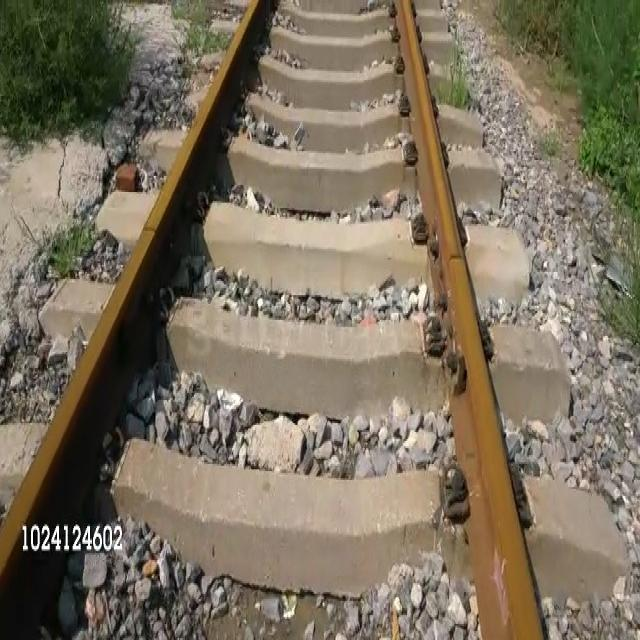Plant: (501, 0, 639, 216), (1, 0, 135, 136), (598, 252, 639, 337), (23, 225, 87, 276), (432, 58, 466, 102), (169, 1, 218, 25), (187, 28, 228, 53)
